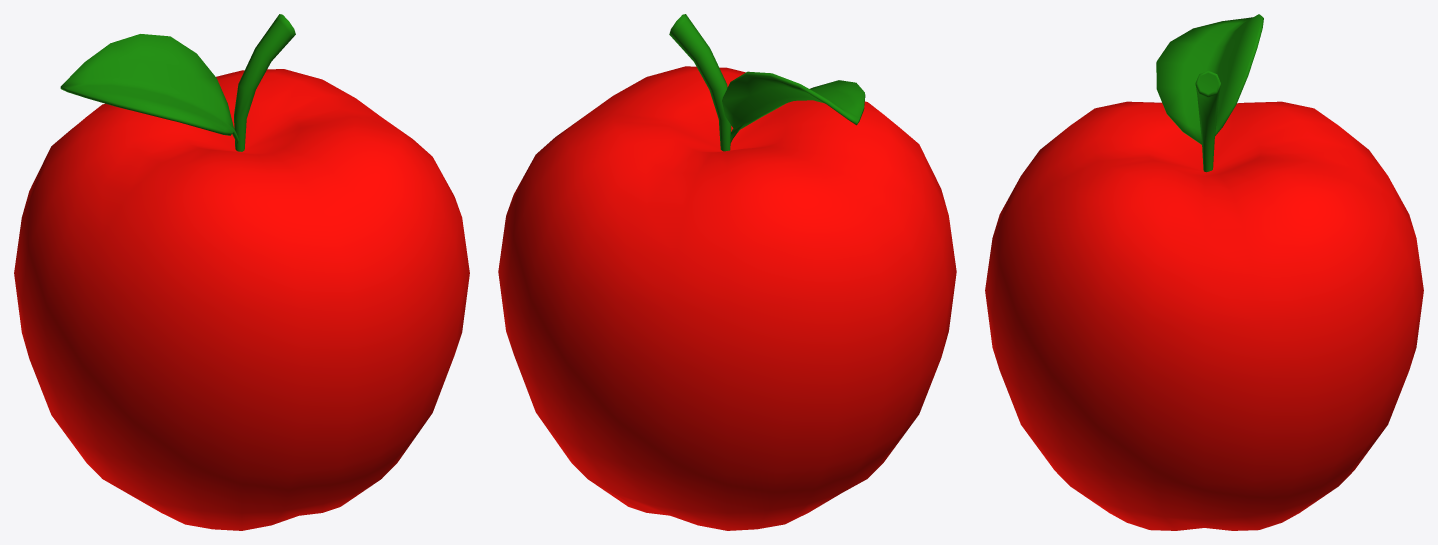
File: ExportedBlenderFBXFile.fbx
3 renders of one model, left to right at view 1: azimuth 30°, elevation 25°; view 2: azimuth 150°, elevation 25°; view 3: azimuth 270°, elevation 25°, orthographic. The views are drawn at different scales.
Parts seen in each view (by area): view 1: Apple; view 2: Apple; view 3: Apple.
Part boxes in pixels (bbox=[...]): Apple: bbox=[14, 14, 469, 530]; Apple: bbox=[498, 14, 956, 530]; Apple: bbox=[985, 14, 1423, 530].
Size of the model in its own units: 79.89 by 91.12 by 79.89.
